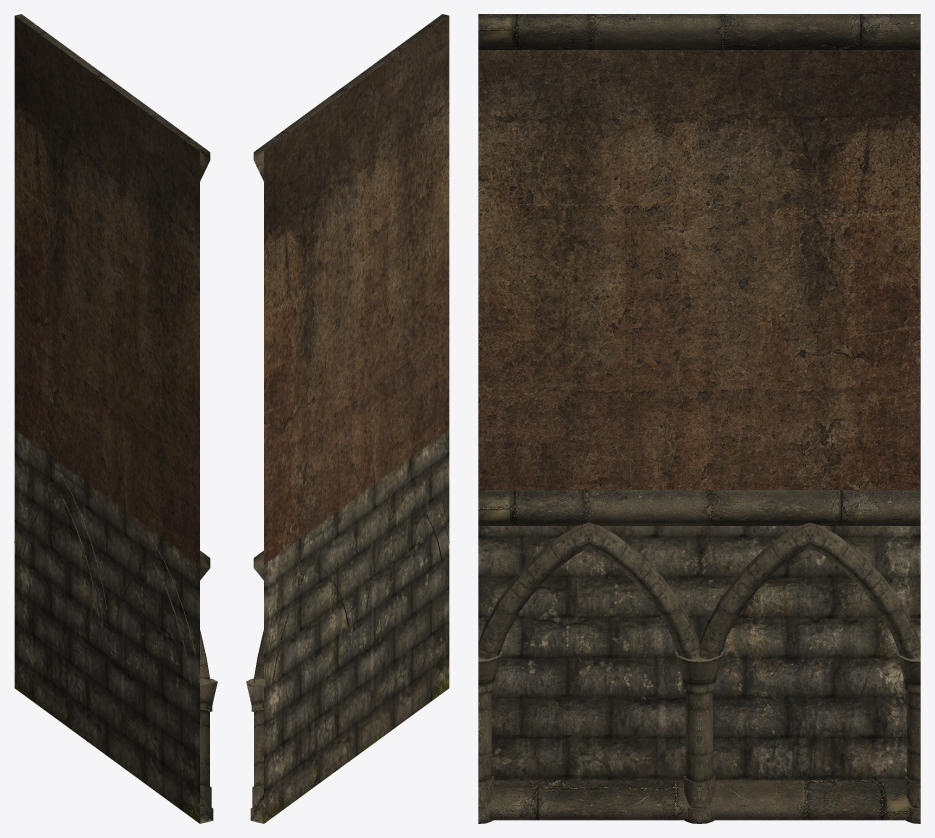
Rendered from NC_wall_short.DAE.
3 renders of one model, left to right at view 1: azimuth 30°, elevation 25°; view 2: azimuth 150°, elevation 25°; view 3: azimuth 270°, elevation 25°, orthographic. The views are drawn at different scales.
Visible parts, largest first — view 1: NC_wall_short, NC_wall_short_trim, NC_wall_short_details; view 2: NC_wall_short, NC_wall_short_trim, NC_wall_short_details; view 3: NC_wall_short, NC_wall_short_trim, NC_wall_short_details.
Boxes of the visible parts, box(x1,y1,x2,y2) form: NC_wall_short: box(14, 16, 199, 564); NC_wall_short_trim: box(14, 429, 199, 823); NC_wall_short_details: box(14, 14, 217, 823); NC_wall_short: box(264, 16, 449, 564); NC_wall_short_trim: box(264, 429, 449, 823); NC_wall_short_details: box(246, 14, 449, 823); NC_wall_short: box(478, 50, 920, 489); NC_wall_short_trim: box(478, 526, 920, 780); NC_wall_short_details: box(478, 14, 920, 823).
Size of the model in its own units: 0.1177 by 2 by 4.
